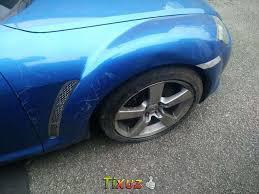fender-dent: (14, 29, 95, 148)
